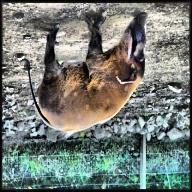boar: (20, 9, 178, 146)
